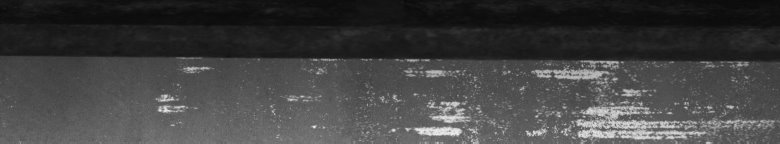kb: (156, 54, 775, 136)
